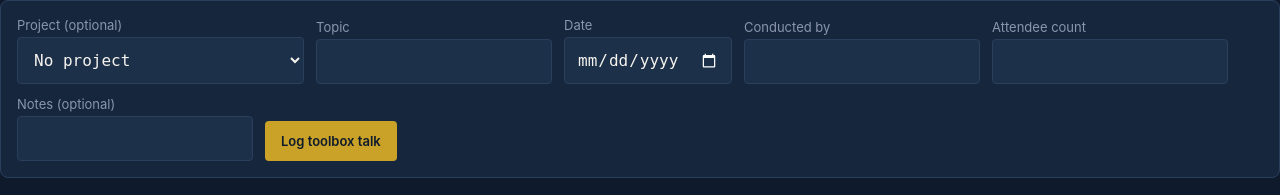
Test case: CreateToolboxTalkForm › disables the submit button and shows pending text while submitting
Type "Working at heights" into the field labelled "Topic".
click(434, 62); type("Working at heights")  # box [316,39,552,84]
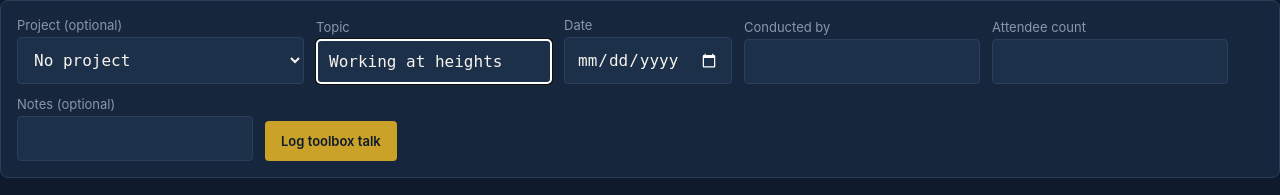
Type "2026-08-01" into the date field labelled "Date".
click(648, 60); type("2026-08-01")  # box [564,37,732,84]
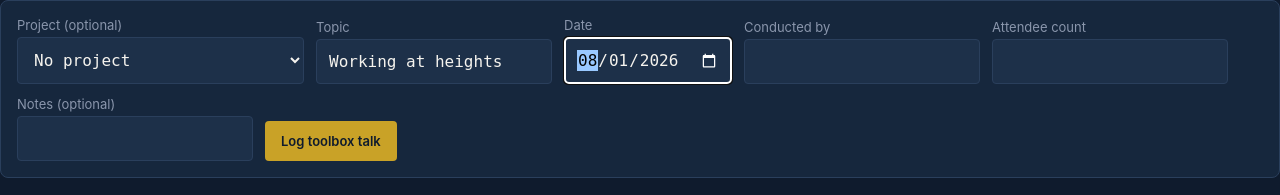
Type "Site Supervisor A" into the field labelled "Conducted by".
click(862, 62); type("Site Supervisor A")  # box [744,39,980,84]
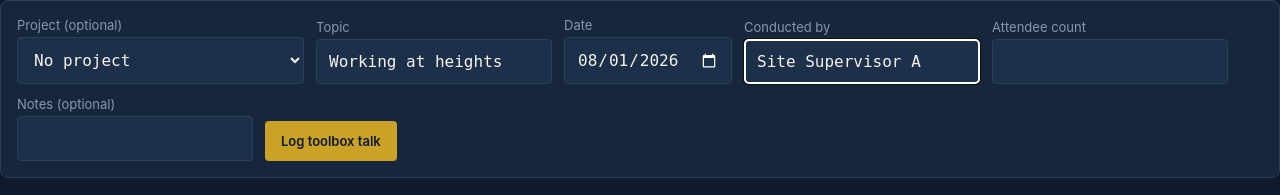
Type "12" into the number field labelled "Attendee count".
click(1110, 62); type("12")  # box [992,39,1228,84]
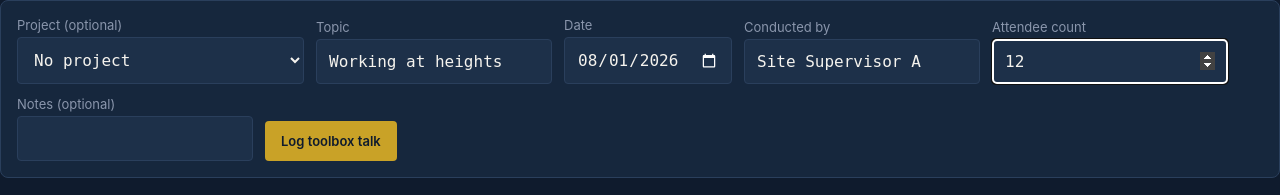
Click the button "Log toolbox talk".
click(331, 141)  # box [265,121,397,161]
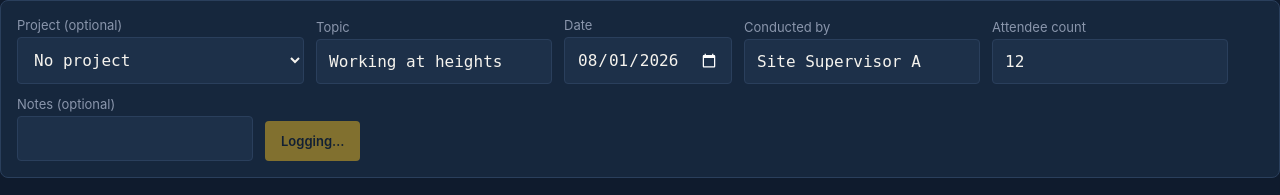
Now the button "Logging…" is disabled, box [265,121,360,161]
